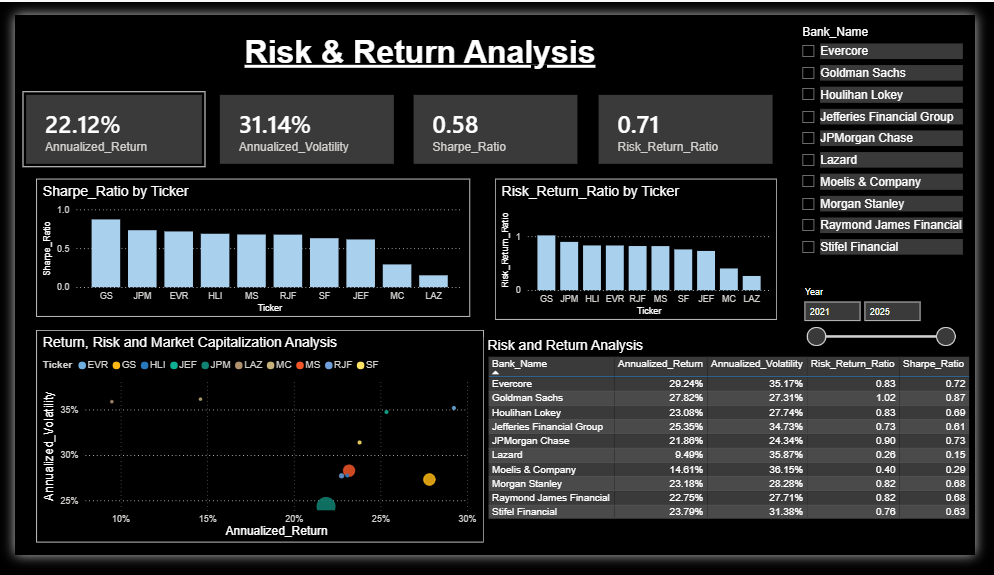

The dashboard page shown, as its layout file describes it:
{"tool":"powerbi","page":{"name":"Risk & Return Analysis","canvas":[1280,720],"ordinal":2},"visuals":[{"type":"cardVisual","fields":{"Data":["Measure.Annualized_Return"]},"box":[10,102,244,102],"z":0},{"type":"cardVisual","fields":{"Data":["Measure.Annualized_Volatility"]},"box":[268,102,242,102],"z":1000},{"type":"cardVisual","fields":{"Data":["Measure.Sharpe_Ratio"]},"box":[526,102,228,102],"z":2000},{"type":"cardVisual","fields":{"Data":["Measure.Risk_Return_Ratio"]},"box":[774,102,242,102],"z":3000},{"type":"clusteredColumnChart","fields":{"Y":["Measure.Sharpe_Ratio"],"Category":["investment_bank_stock_prices.Ticker"]},"box":[28,218,578,184],"z":4000},{"type":"clusteredColumnChart","fields":{"Category":["investment_bank_stock_prices.Ticker"],"Y":["Measure.Risk_Return_Ratio"]},"box":[621.4,218.6,394.3,221.4],"z":5000},{"type":"scatterChart","title":"Return, Risk and Market Capitalization Analysis","fields":{"X":["Measure.Annualized_Return"],"Y":["Measure.Annualized_Volatility"],"Series":["investment_bank_fundamentals.Ticker"],"Size":["Sum(investment_bank_fundamentals.Market_Cap_Billion_USD)"]},"box":[28.6,417.1,568.6,285.7],"z":6000},{"type":"tableEx","title":"Risk and Return Analysis","fields":{"Values":["investment_bank_fundamentals.Bank_Name","Measure.Annualized_Return","Measure.Annualized_Volatility","Measure.Risk_Return_Ratio","Measure.Sharpe_Ratio"]},"box":[607.1,452.9,660,250],"z":7000},{"type":"slicer","fields":{"Values":["investment_bank_fundamentals.Bank_Name"]},"box":[1036,8,232,328],"z":8000},{"type":"slicer","fields":{"Values":["investment_bank_stock_prices.Year"]},"box":[1041.4,347.1,221.4,92.9],"z":9000},{"type":"textbox","box":[65.7,20,950,67.1],"z":10000}]}

Visuals, with their boxes in screenshot pixels (x1, y1, x2, y2), scaled from the page's 1280x720 canvas onto the 994x575 screenshot:
cardVisual - Measure.Annualized_Return: locate(8, 81, 197, 163)
cardVisual - Measure.Annualized_Volatility: locate(208, 81, 396, 163)
cardVisual - Measure.Sharpe_Ratio: locate(408, 81, 586, 163)
cardVisual - Measure.Risk_Return_Ratio: locate(601, 81, 789, 163)
clusteredColumnChart - Measure.Sharpe_Ratio x investment_bank_stock_prices.Ticker: locate(22, 174, 471, 321)
clusteredColumnChart - investment_bank_stock_prices.Ticker x Measure.Risk_Return_Ratio: locate(483, 175, 789, 351)
"Return, Risk and Market Capitalization Analysis" scatterChart: locate(22, 333, 464, 561)
"Risk and Return Analysis" tableEx: locate(471, 362, 984, 561)
slicer - investment_bank_fundamentals.Bank_Name: locate(805, 6, 985, 268)
slicer - investment_bank_stock_prices.Year: locate(809, 277, 981, 351)
textbox: locate(51, 16, 789, 70)
